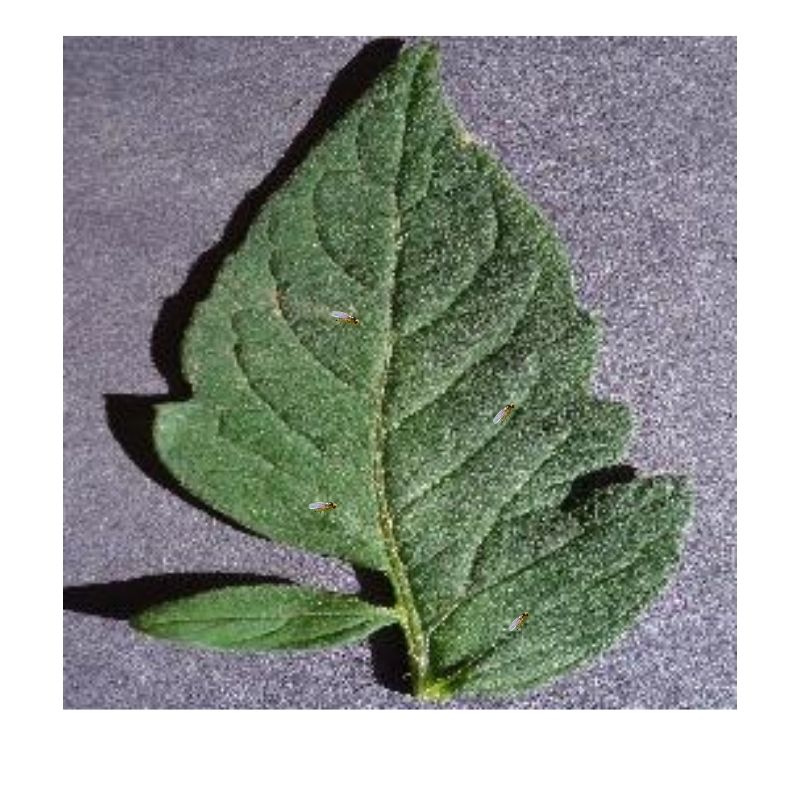liriomyza: (506, 609, 530, 634), (489, 402, 515, 425), (327, 309, 360, 326), (308, 500, 337, 512)
